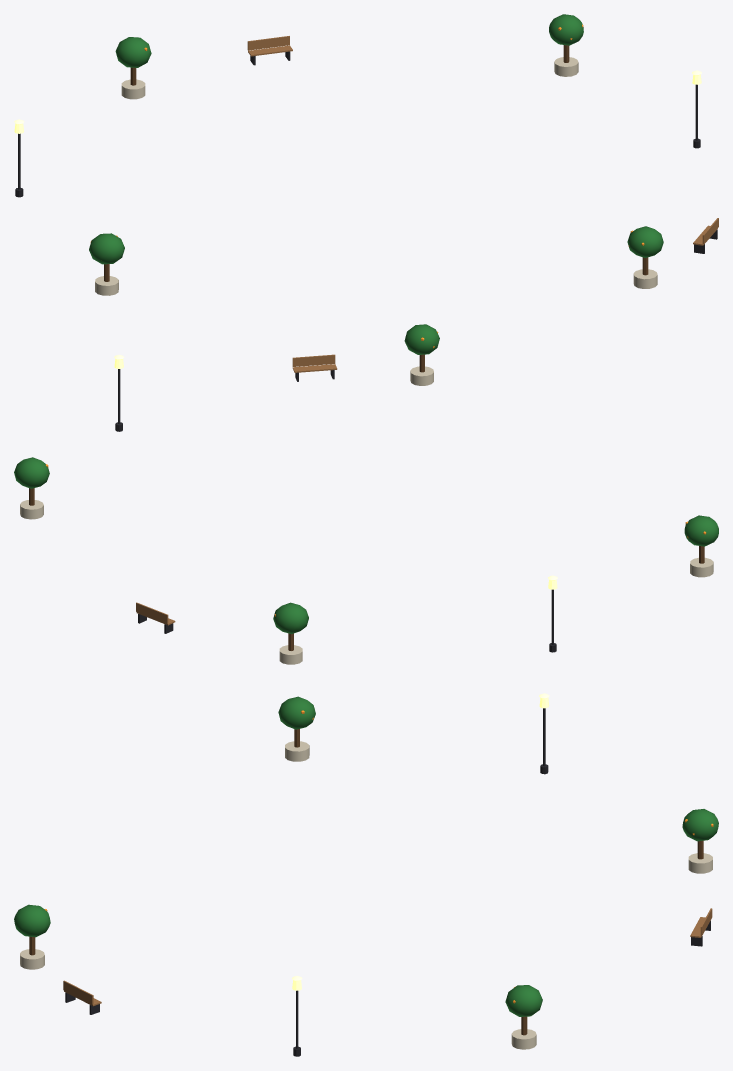
3 renders of one model, top to bottom at view 1: azimuth 30°, elevation 25°; view 2: azimuth 150°, elevation 25°; view 3: azimuth 270°, elevation 25°, orthographic. The views are drawn at different scales.
Parts seen in each view (by area): view 1: nexo_decor_plaza.lod0; view 2: nexo_decor_plaza.lod0; view 3: nexo_decor_plaza.lod0.
Part boxes in pixels (bbox=[...]): nexo_decor_plaza.lod0: bbox=[14, 14, 718, 295]; nexo_decor_plaza.lod0: bbox=[14, 324, 718, 664]; nexo_decor_plaza.lod0: bbox=[14, 693, 718, 1056].
Bounding box in the file's own units: 28.95 × 3.47 × 27.95.
